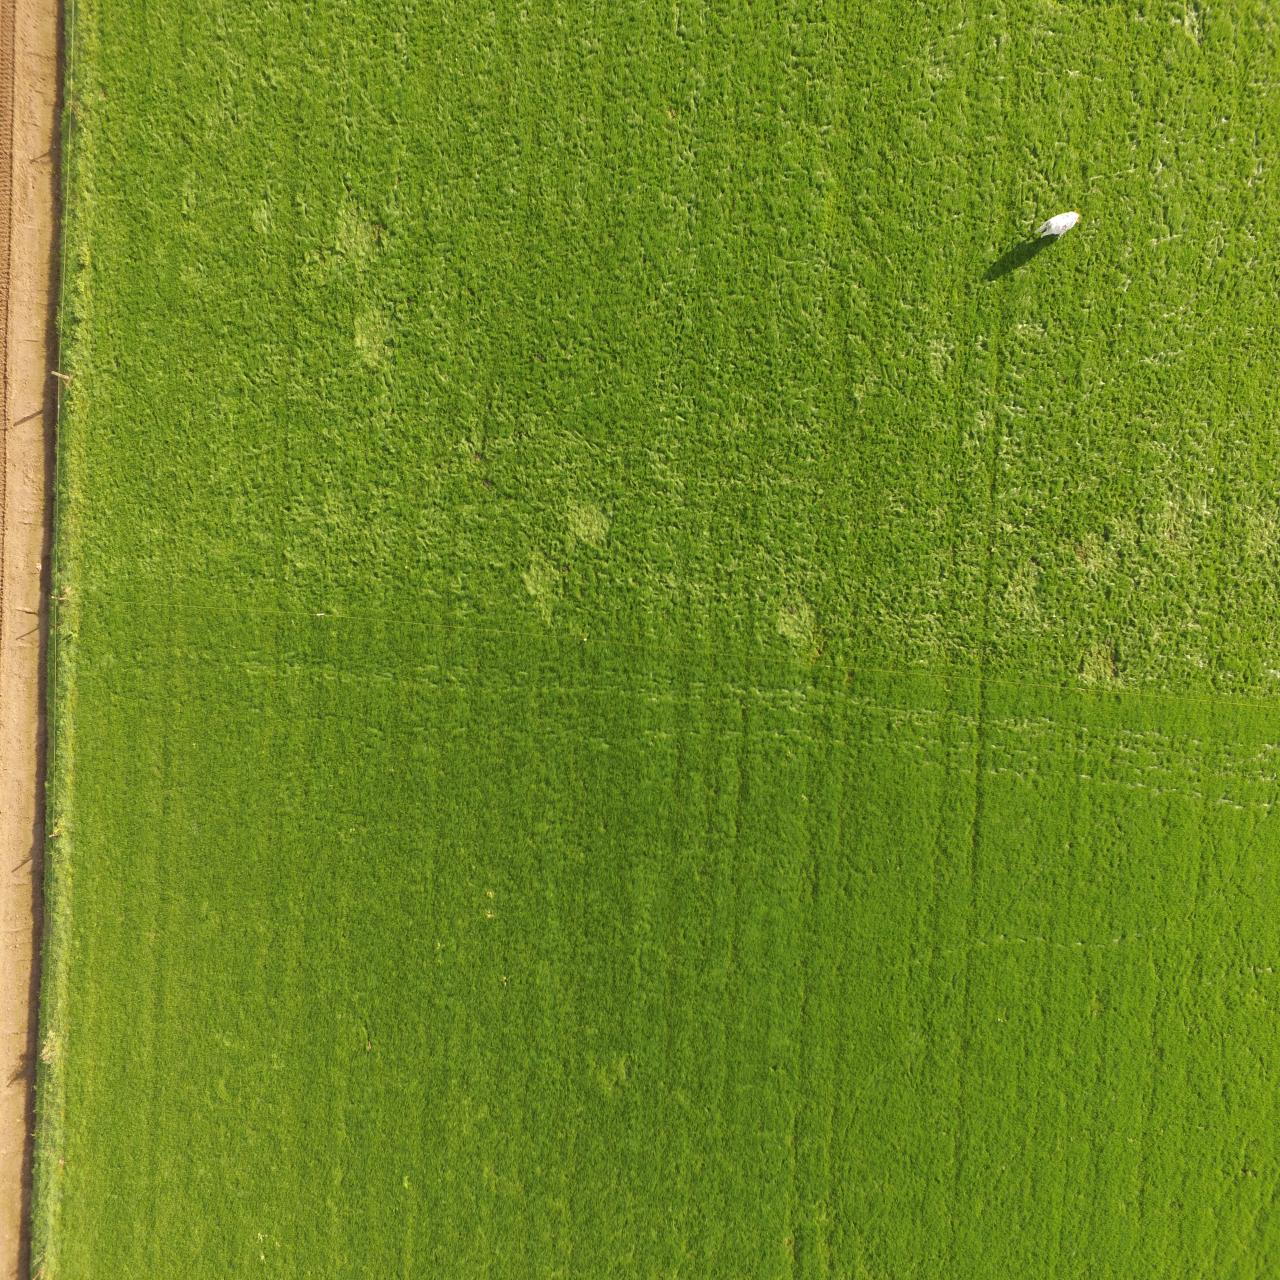cow: (1033, 207, 1083, 240)
